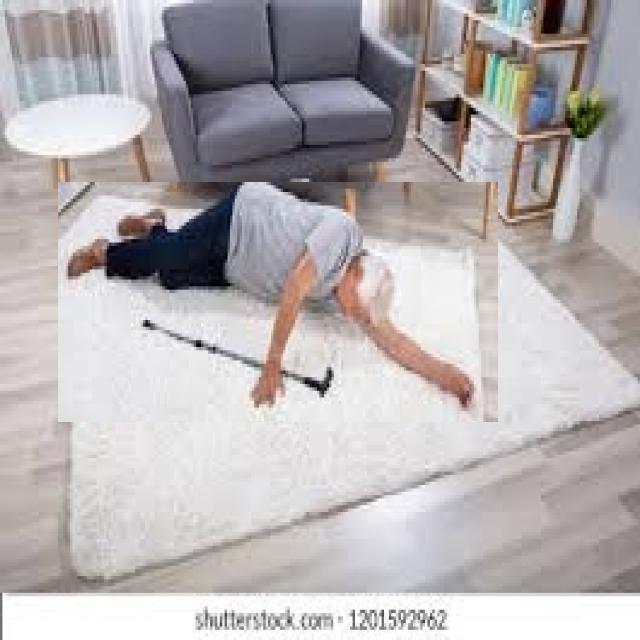Fall: (57, 178, 495, 428)
